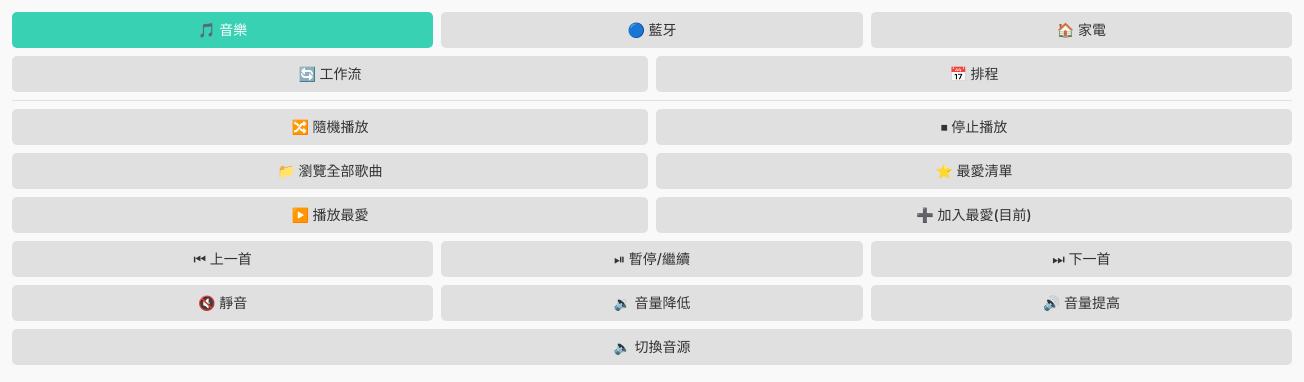
Test: LifeActionPanel — category split (#7) › switches to the 藍牙 sub-panel when 藍牙 is clicked
Click the button "🔵 藍牙" at (652, 30), box x1=441 y1=12 x2=863 y2=48
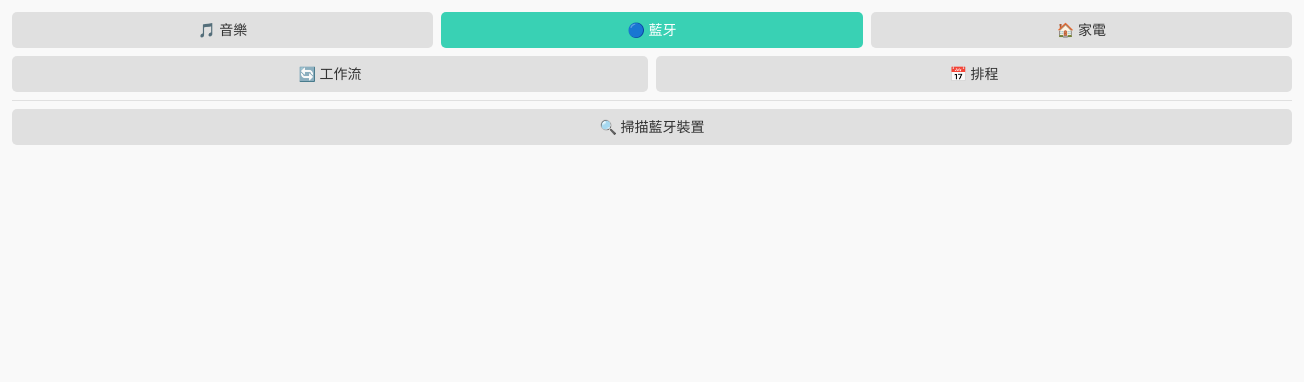
Expected: the button "🔍 掃描藍牙裝置" is shown, x1=12 y1=109 x2=1292 y2=145
Expected: the button "隨機播放" is gone
